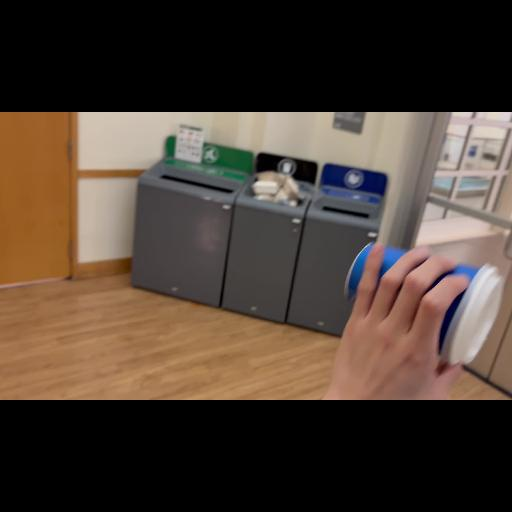lp_paper_cup: (333, 235, 507, 373)
